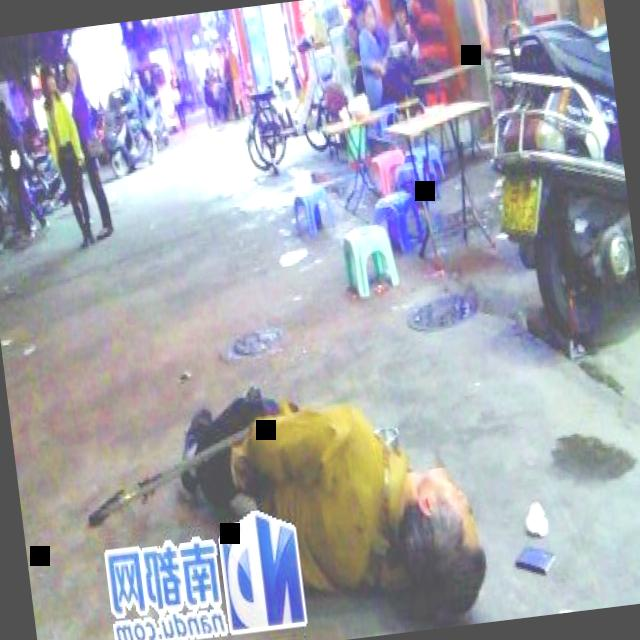Fall-Detected: (159, 326, 497, 640)
